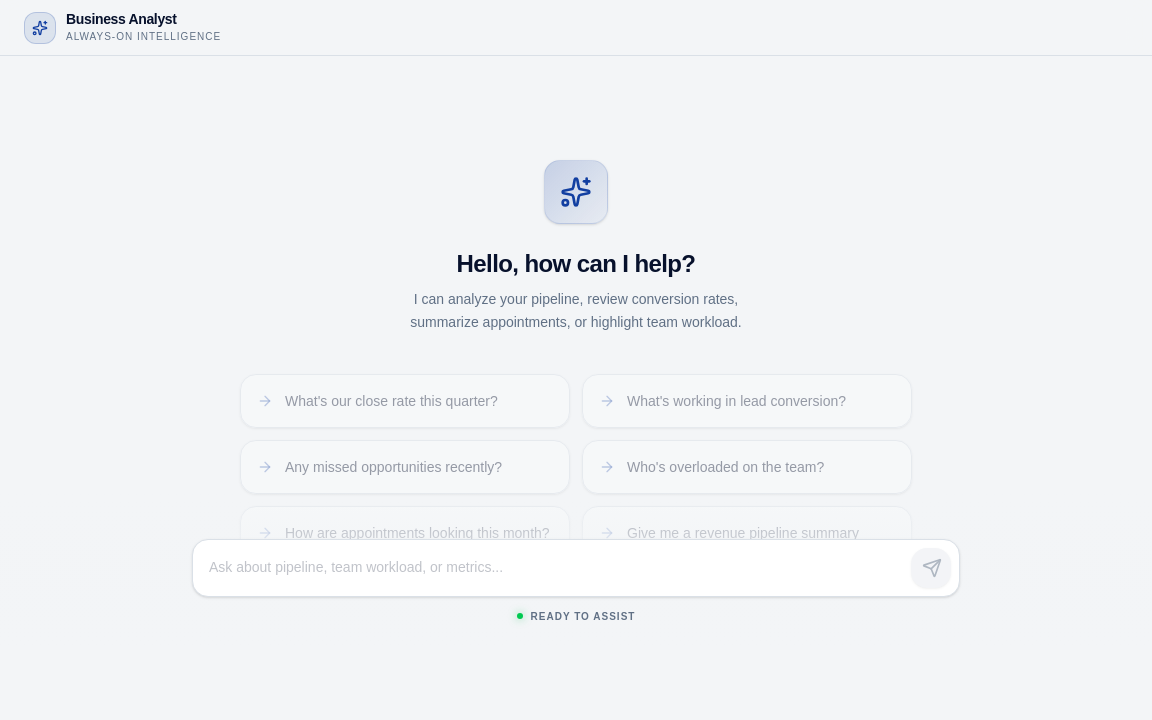
Test: Assistant page — history hydration race guard › send button becomes enabled once history resolves
Expected: the button named "send message" is disabled, [911,548,951,588]
In the text box: (576, 568) [193,540,959,596], type "hello"
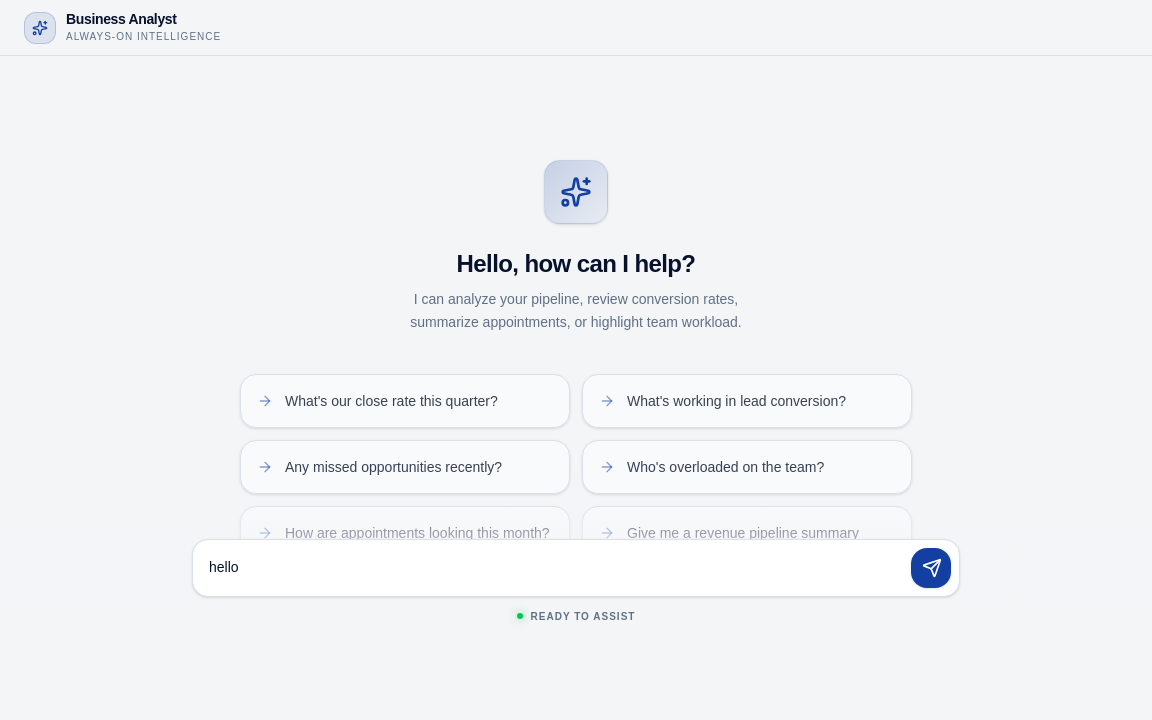
Result: the button named "send message" is enabled at [911,548,951,588]
